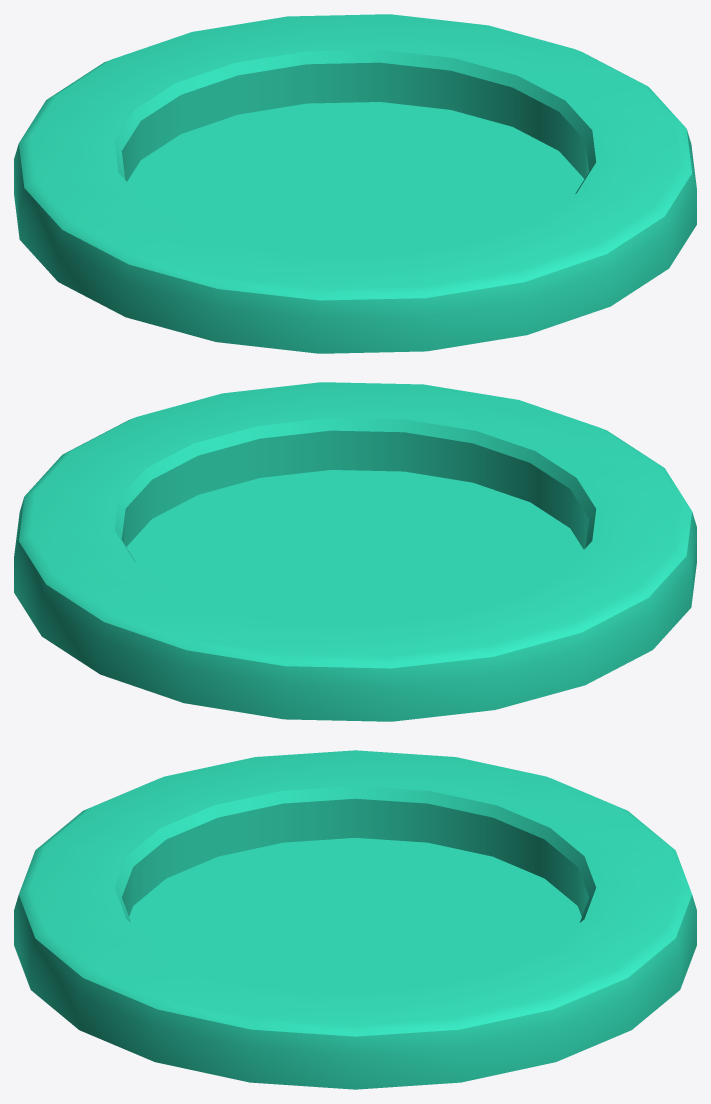
The model's file is Pit_mesh.fbx.
3 views of the same model, one above another, from view 1: azimuth 30°, elevation 25°; view 2: azimuth 150°, elevation 25°; view 3: azimuth 270°, elevation 25° (orthographic).
Visible parts, largest first — view 1: Pit_mesh; view 2: Pit_mesh; view 3: Pit_mesh.
Part boxes in pixels (left/top/right/bottom): Pit_mesh: left=14, top=14, right=696, bottom=353; Pit_mesh: left=14, top=382, right=696, bottom=721; Pit_mesh: left=14, top=750, right=696, bottom=1089.
Bounding box in the file's own units: 44283 × 44283 × 4120.
